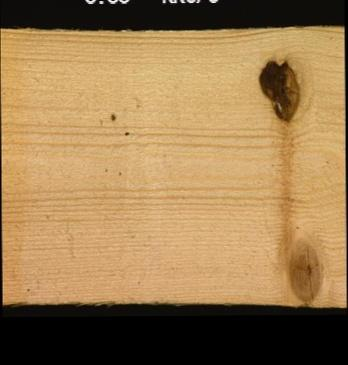edge_knot: (284, 239, 322, 303)
small_knot: (107, 111, 116, 121)
